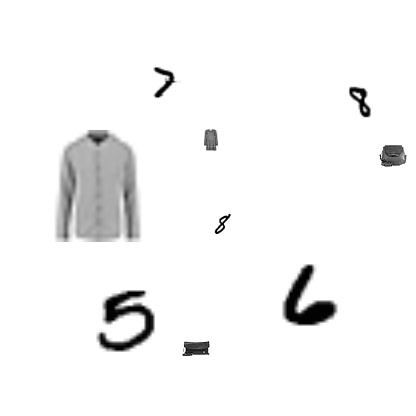5: (82, 276, 166, 360)
6: (262, 259, 346, 343)
7: (143, 60, 185, 102)
8: (339, 78, 381, 120), (208, 209, 236, 237)
Bag: (379, 142, 407, 170), (182, 334, 210, 362)
Dress: (200, 129, 222, 151)
Shirt: (40, 130, 152, 242)
